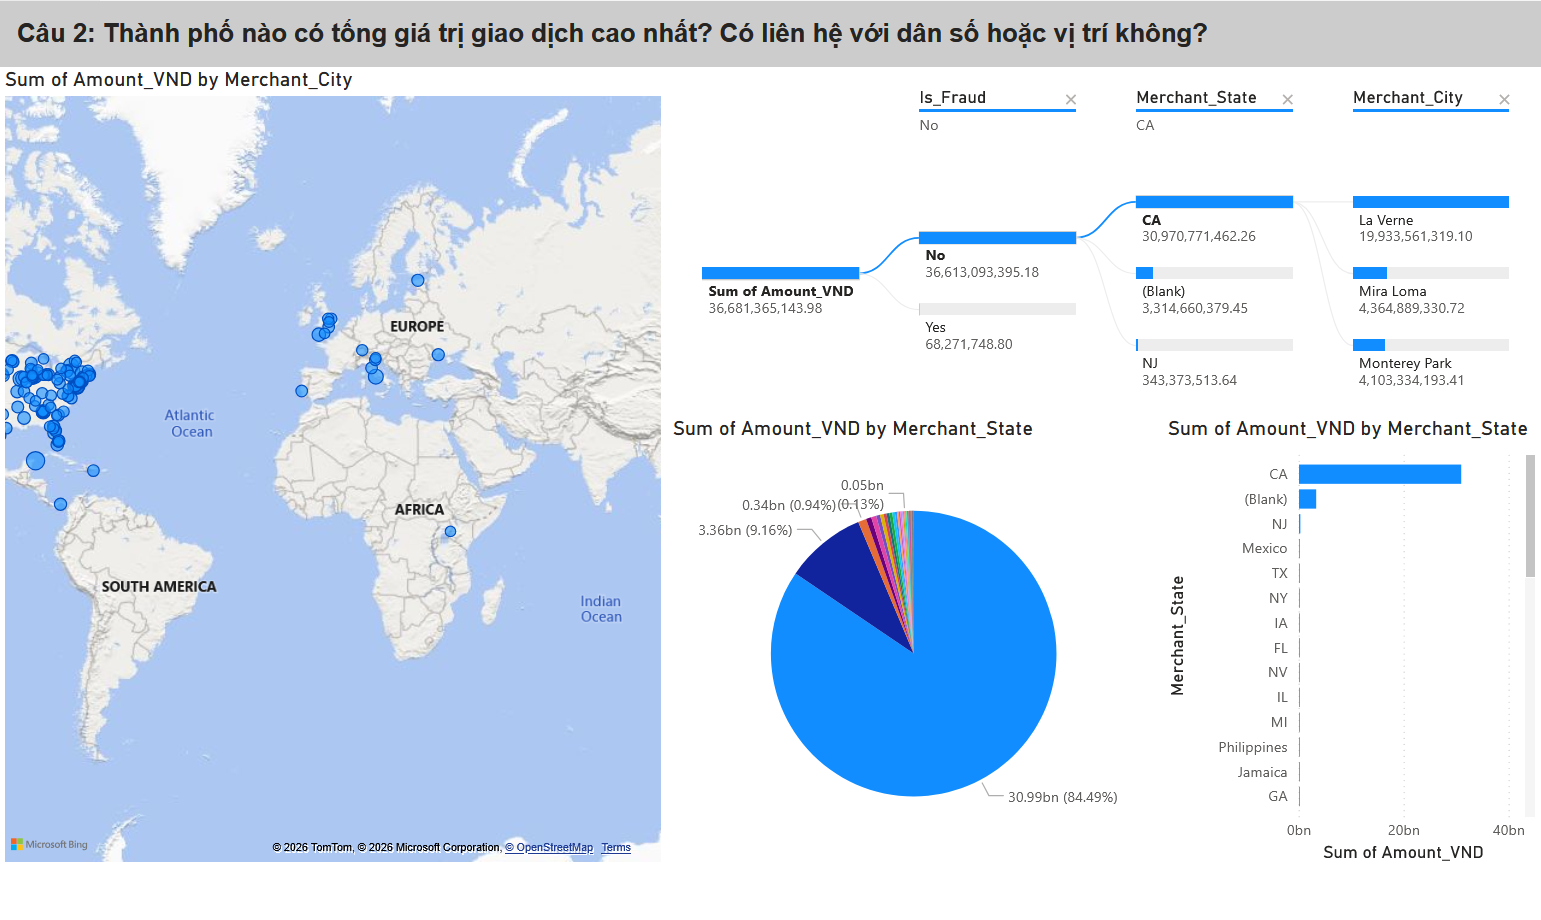

The dashboard page shown, as its layout file describes it:
{"tool":"powerbi","page":{"name":"Câu 2","canvas":[1280,720],"ordinal":1},"visuals":[{"type":"map","fields":{"Category":["v_credit_card.Merchant_City"],"Size":["Sum(v_credit_card.Amount_VND)"]},"box":[0,54.6,554.6,665.1],"z":0},{"type":"clusteredBarChart","fields":{"Category":["v_credit_card.Merchant_State"],"Y":["Sum(v_credit_card.Amount_VND)"]},"box":[965.1,344.2,315.1,375.6],"z":1000},{"type":"pieChart","title":"Sum of Amount_VND by Merchant_State","fields":{"Category":["v_credit_card.Merchant_State"],"Y":["Sum(v_credit_card.Amount_VND)"]},"box":[554.6,344.2,410.5,375.6],"z":2000},{"type":"decompositionTreeVisual","fields":{"Analyze":["Sum(v_credit_card.Amount_VND)"],"ExplainBy":["v_credit_card.Is_Fraud","v_credit_card.Merchant_State","v_credit_card.Merchant_City"]},"box":[554.6,54.6,725.6,280.2],"z":3000},{"type":"textbox","title":"Câu 1: Thời điểm nào trong ngày có nhiều giao dịch nhất? Có khung giờ nào giao dịch bất thường không?","box":[0,0,1280.2,54.6],"z":4000}]}

Visuals, with their boxes on the page's 1280x720 design canvas (x1, y1, x2, y2). These are canvas units, not pixel positions in the 1541x920 screenshot, which may show the page scaled, cropped or inside an application window:
map - v_credit_card.Merchant_City x Sum(v_credit_card.Amount_VND): Rect(0, 55, 555, 720)
clusteredBarChart - v_credit_card.Merchant_State x Sum(v_credit_card.Amount_VND): Rect(965, 344, 1280, 720)
"Sum of Amount_VND by Merchant_State" pieChart: Rect(555, 344, 965, 720)
decompositionTreeVisual - Sum(v_credit_card.Amount_VND) x v_credit_card.Is_Fraud: Rect(555, 55, 1280, 335)
"Câu 1: Thời điểm nào trong ngày có nhiều giao dịch nhất? Có khung giờ nào giao dịch bất thường không?" textbox: Rect(0, 0, 1280, 55)
